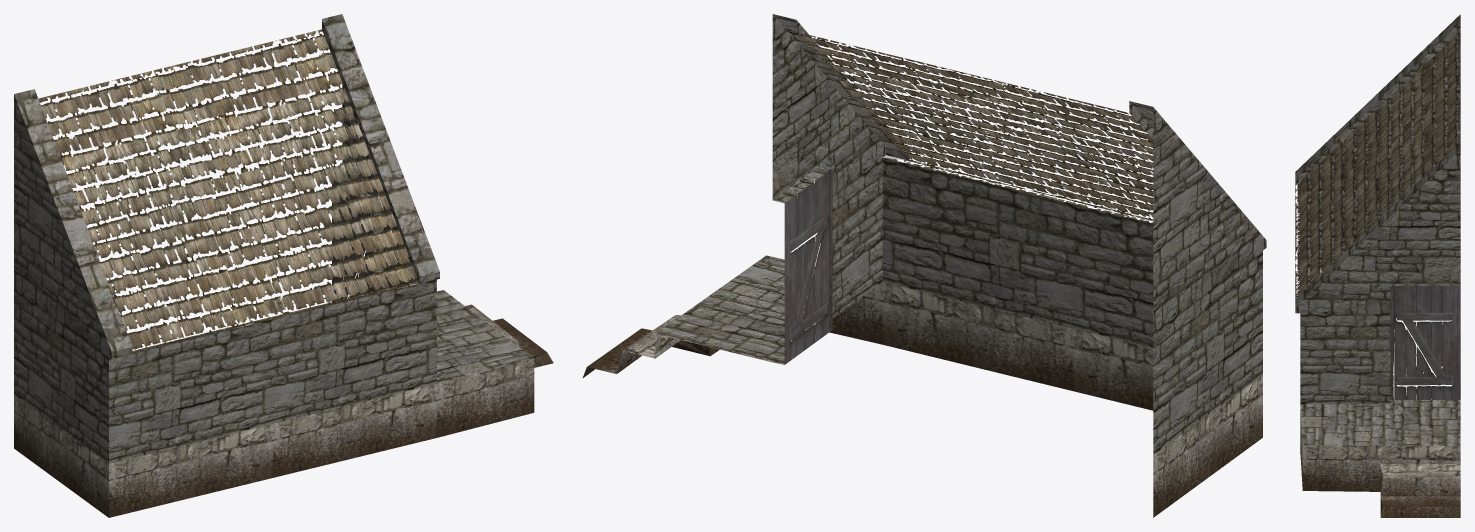
The model's file is poorlords_shed3.FBX.
3 renders of one model, left to right at view 1: azimuth 30°, elevation 25°; view 2: azimuth 150°, elevation 25°; view 3: azimuth 270°, elevation 25°, orthographic. The views are drawn at different scales.
Visible parts, largest first — view 1: Poorlords_shed3_; view 2: Poorlords_shed3_; view 3: Poorlords_shed3_.
Part boxes in pixels (x1,y1,x2,y2): Poorlords_shed3_: [14, 14, 553, 517]; Poorlords_shed3_: [583, 14, 1266, 517]; Poorlords_shed3_: [1295, 14, 1460, 517].
Bounding box in the file's own units: 768 × 264 × 529.
